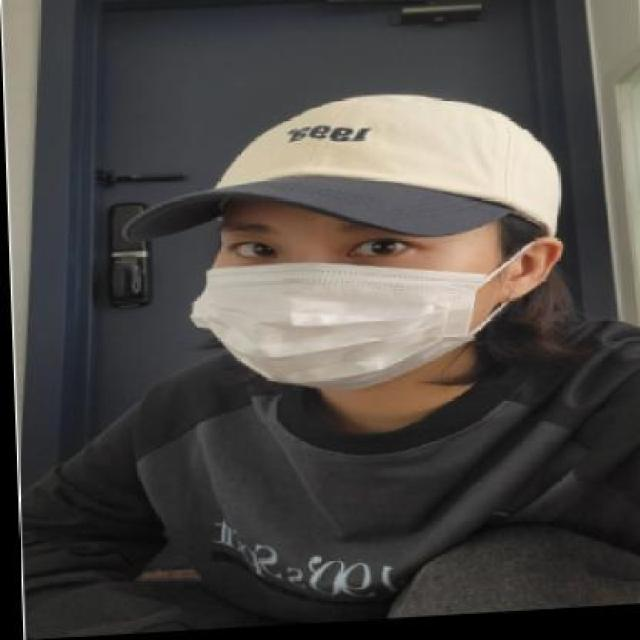hat: (114, 88, 566, 257)
